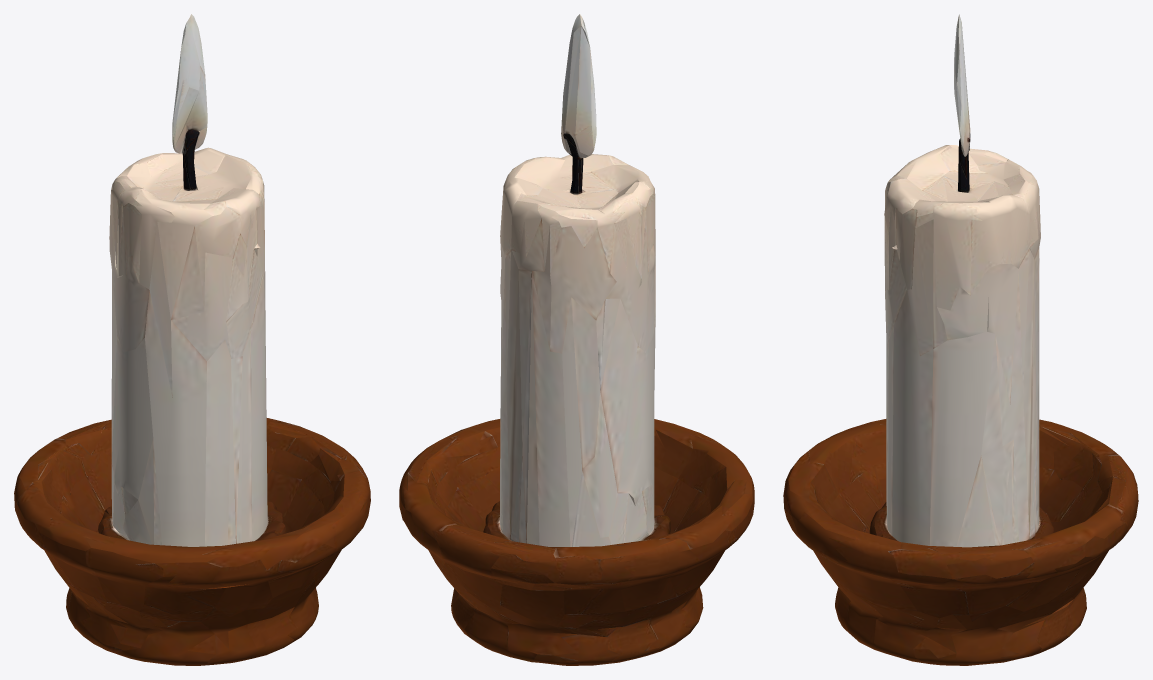
File: candle.glb
The picture shows the model from 3 angles, left to right: view 1: azimuth 30°, elevation 25°; view 2: azimuth 150°, elevation 25°; view 3: azimuth 270°, elevation 25°; orthographic projection.
Visible parts, largest first — view 1: output_unwrapped; view 2: output_unwrapped; view 3: output_unwrapped.
Part boxes in pixels (box(x1,y1,x2,y2)): output_unwrapped: box(14, 14, 370, 665); output_unwrapped: box(399, 14, 754, 665); output_unwrapped: box(783, 14, 1138, 665).
Size of the model in its own units: 1.01 by 1.9 by 1.01.
1 material, 1 textured.
